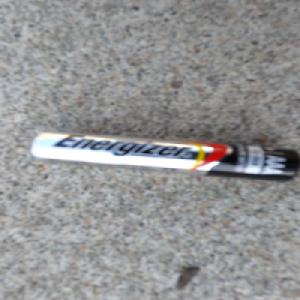Battery: (26, 129, 300, 182)
